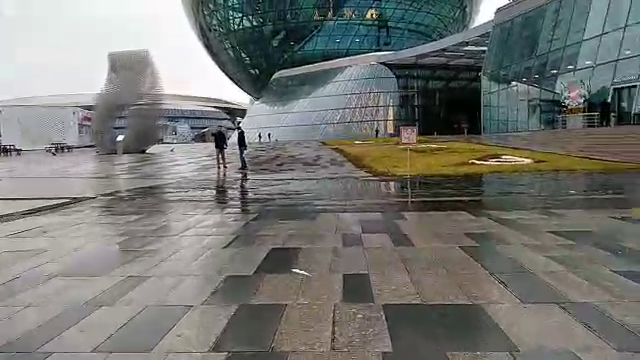pivo: (551, 73, 596, 132)
